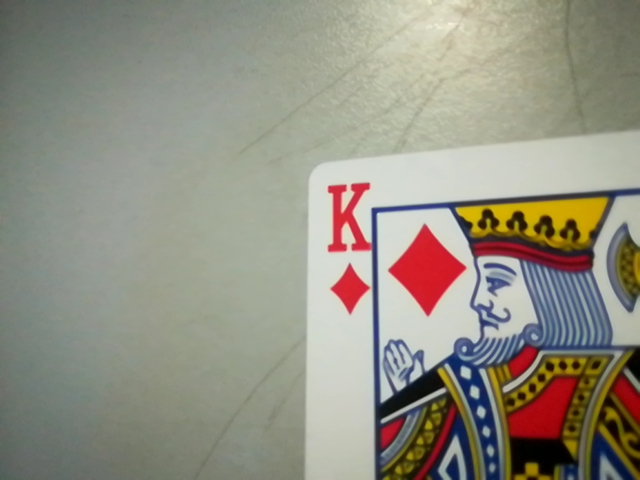fk k: (313, 176, 378, 317)
